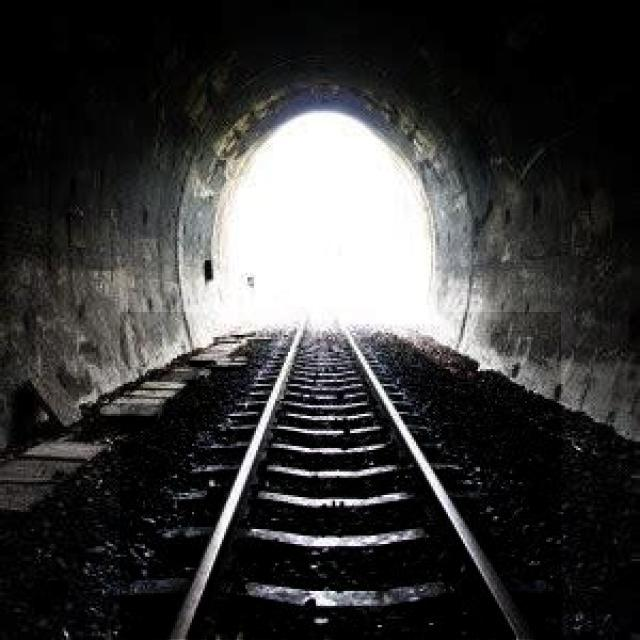rail: (122, 313, 562, 640)
